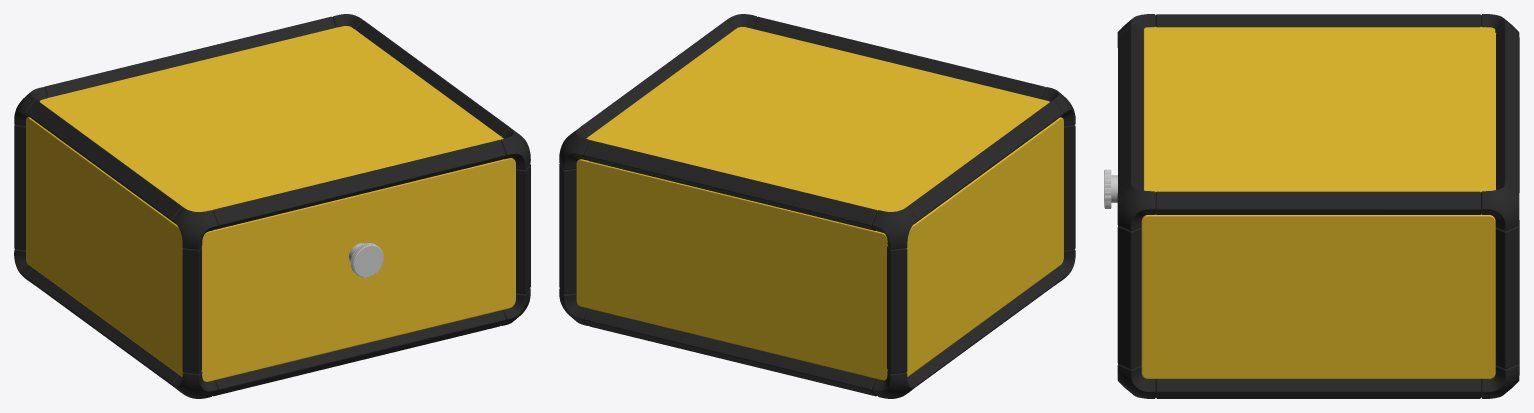
The picture shows the model from 3 angles, left to right: view 1: azimuth 30°, elevation 25°; view 2: azimuth 150°, elevation 25°; view 3: azimuth 270°, elevation 25°; orthographic projection. The views are drawn at different scales.
Parts seen in each view (by area): view 1: 374x329x154; view 2: 374x329x154; view 3: 374x329x154.
Part boxes in pixels (x1,y1,x2,y2): 374x329x154: [14, 14, 530, 398]; 374x329x154: [559, 14, 1075, 398]; 374x329x154: [1104, 14, 1519, 398].
Size of the model in its own units: 0.4517 by 0.2317 by 0.4196.
